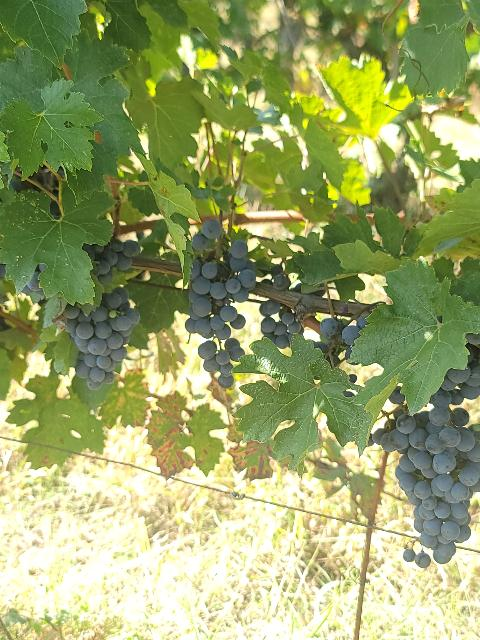grapes: (371, 390, 480, 564), (185, 240, 256, 389), (65, 288, 140, 390), (259, 300, 304, 349), (262, 265, 291, 290)
